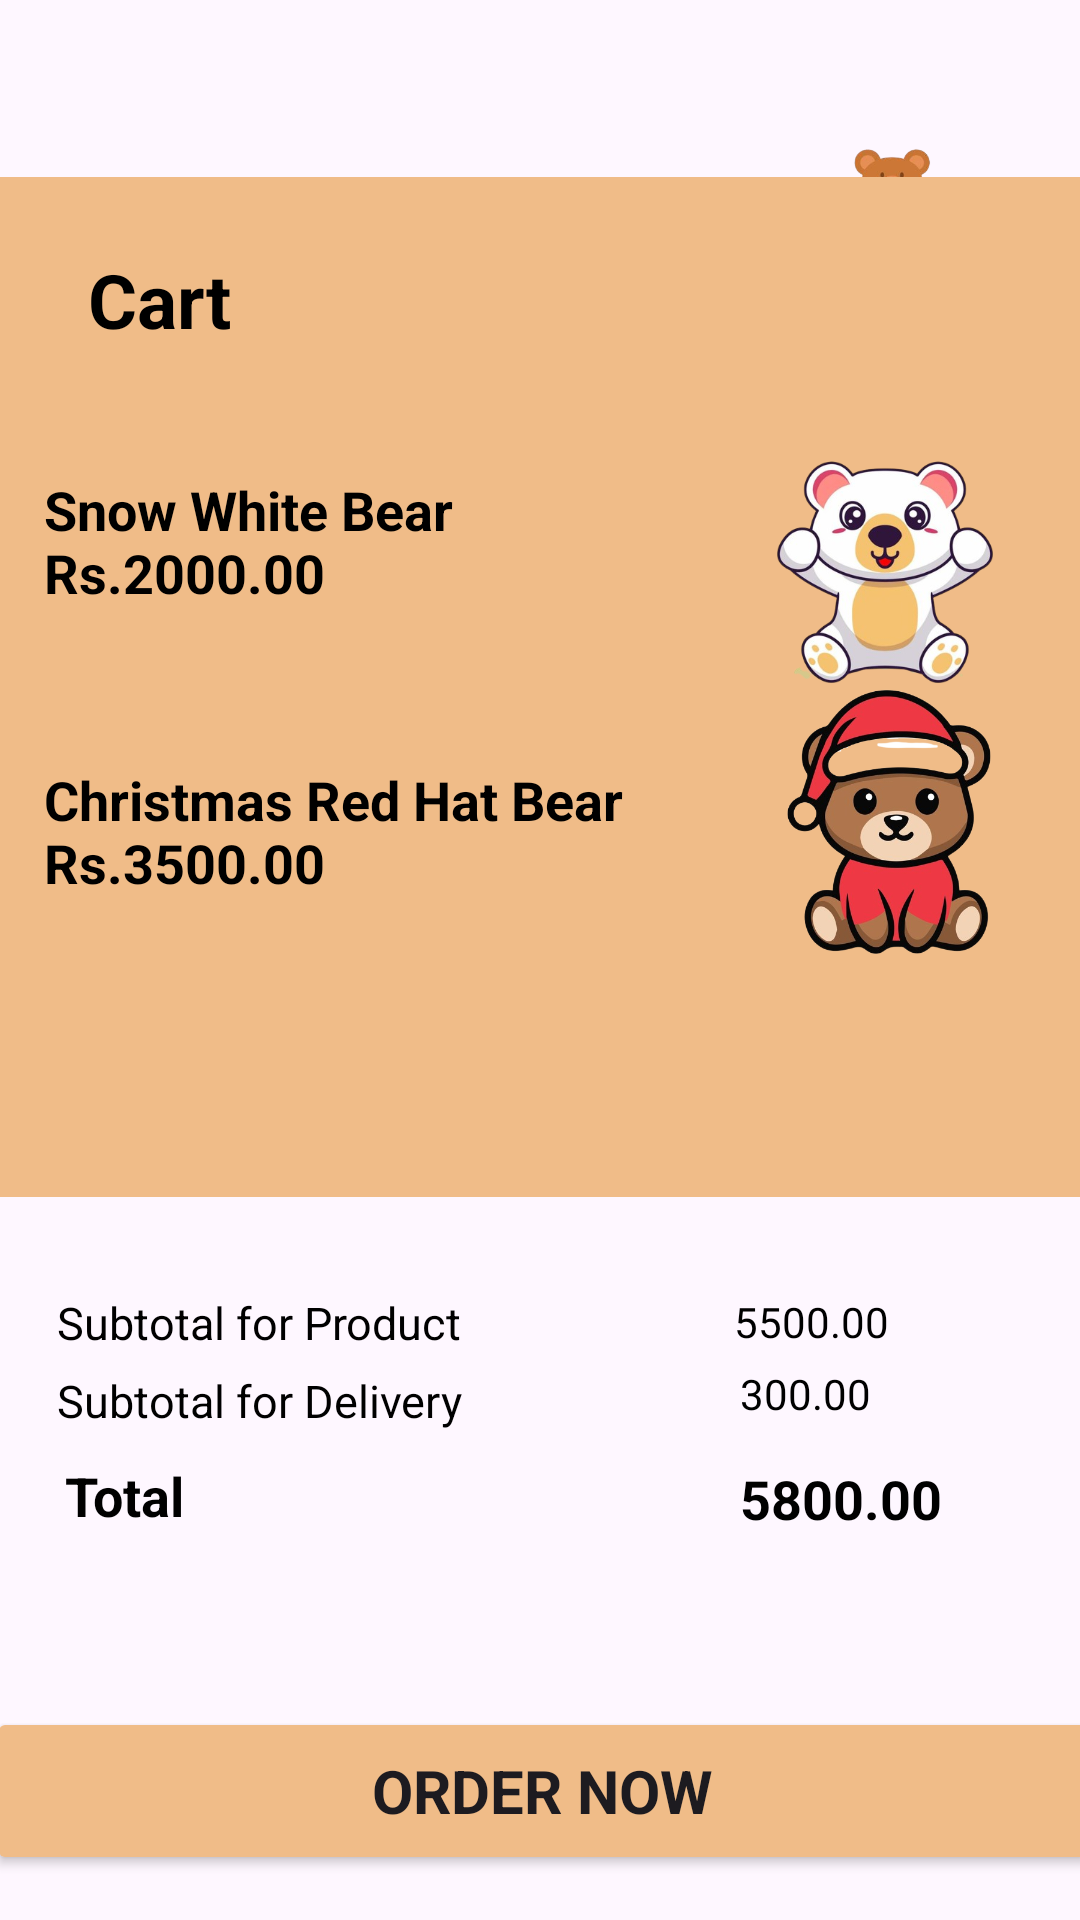

Point at icon controls on the screen. Image size 1080*1920, points as [x,y].
redbear: [889,813]
